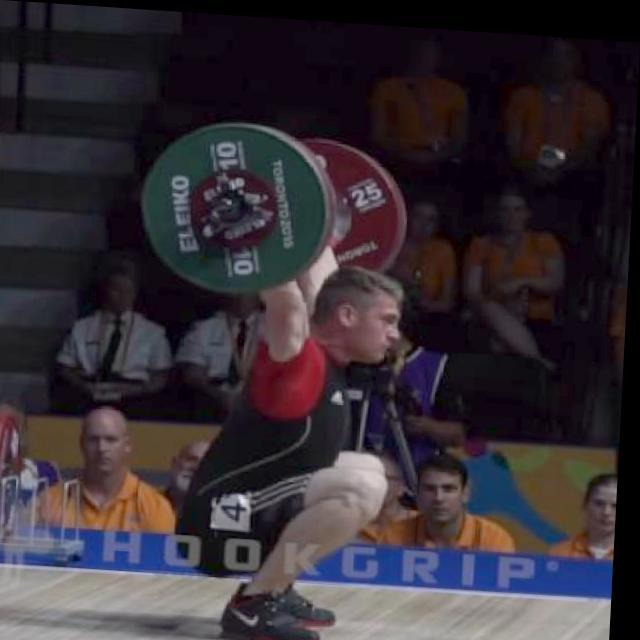barbell: (137, 112, 338, 302)
